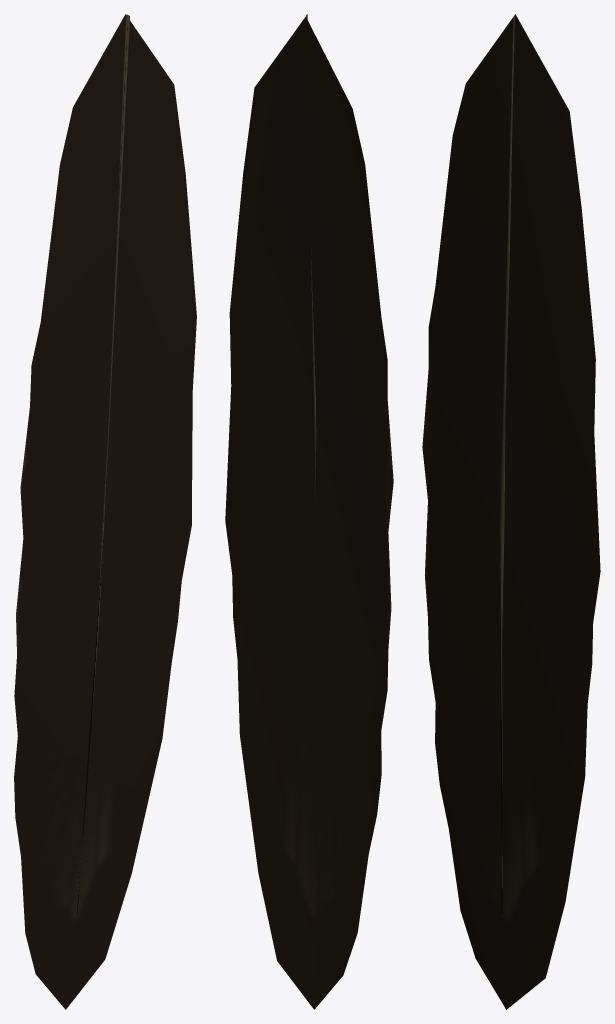
The model's file is bird_rectrix_05.obj.
3 renders of one model, left to right at view 1: azimuth 30°, elevation 25°; view 2: azimuth 150°, elevation 25°; view 3: azimuth 330°, elevation 25°, orthographic. The views are drawn at different scales.
Visible parts, largest first — view 1: PIECE_BIRD_RECTRIX_RIG_05; view 2: PIECE_BIRD_RECTRIX_RIG_05; view 3: PIECE_BIRD_RECTRIX_RIG_05.
Part boxes in pixels (x1=…): PIECE_BIRD_RECTRIX_RIG_05: x1=14, y1=14, x2=196, y2=1009; PIECE_BIRD_RECTRIX_RIG_05: x1=225, y1=14, x2=393, y2=1009; PIECE_BIRD_RECTRIX_RIG_05: x1=422, y1=14, x2=600, y2=1009.
Bounding box in the file's own units: 0.0342 × 0.1885 × 0.00973.
1 material, 1 textured.
